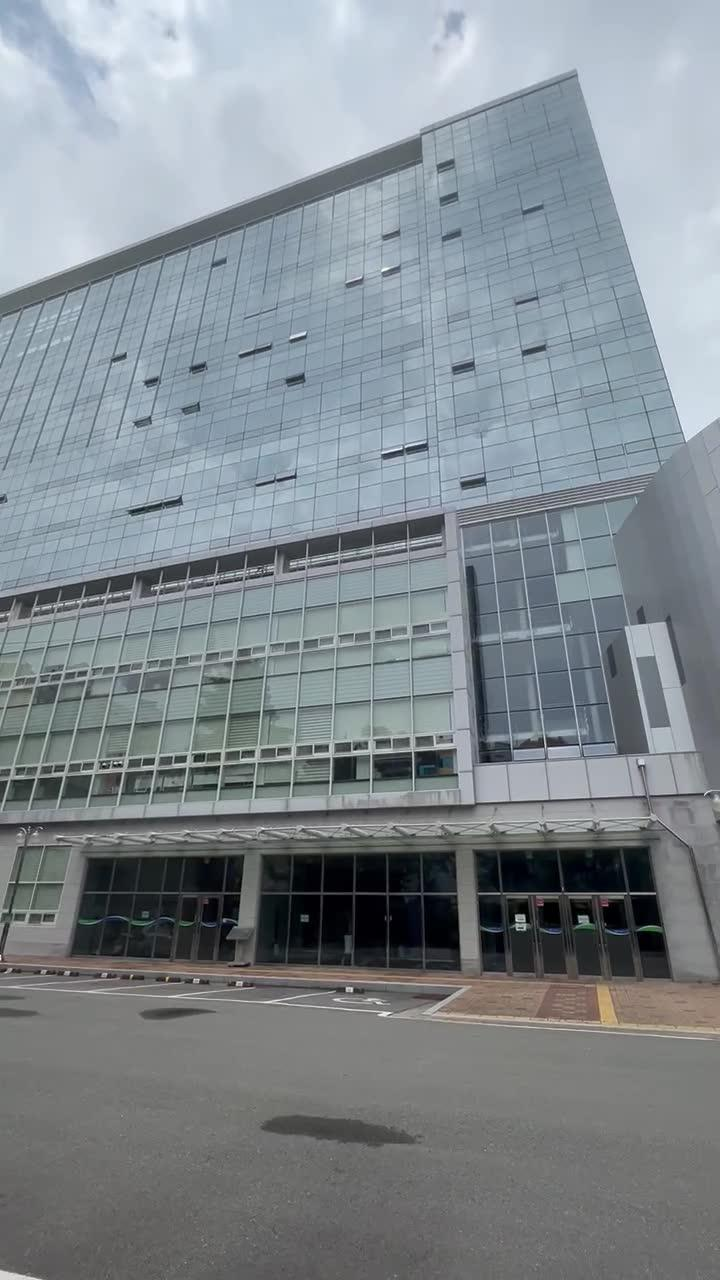building: (16, 136, 672, 930)
